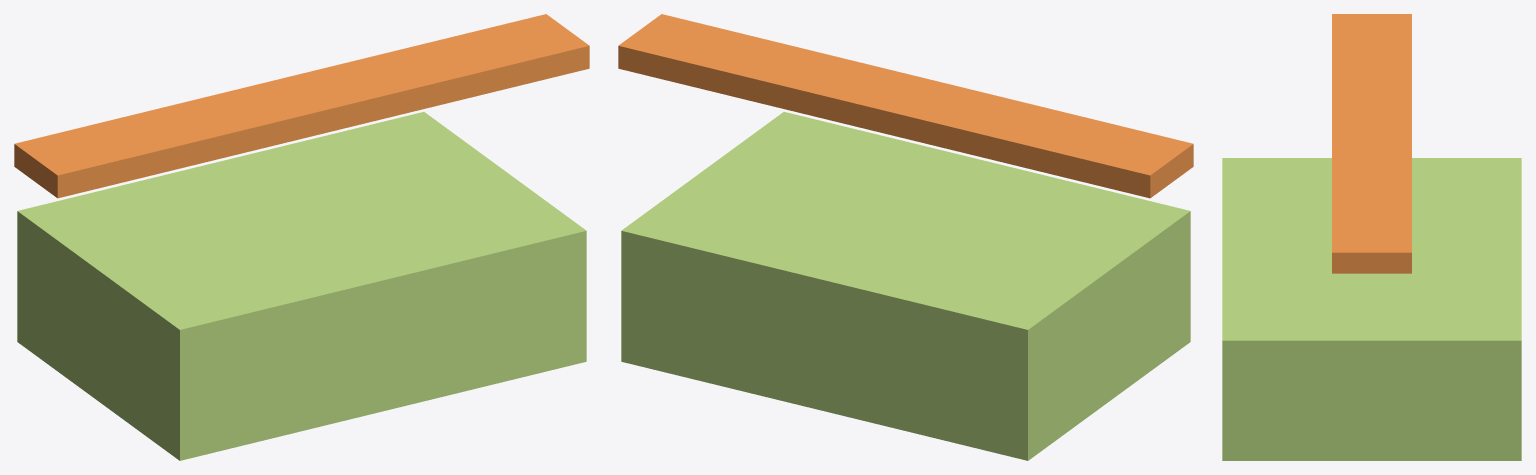
File: phase2-articulated-fixture.gltf
3 renders of one model, left to right at view 1: azimuth 30°, elevation 25°; view 2: azimuth 150°, elevation 25°; view 3: azimuth 270°, elevation 25°, orthographic. The views are drawn at different scales.
Parts seen in each view (by area): view 1: Body, Rotor Blade; view 2: Body, Rotor Blade; view 3: Body, Rotor Blade.
Boxes of the visible parts, x1=… form: Body: x1=17, y1=112, x2=586, y2=460; Rotor Blade: x1=14, y1=14, x2=589, y2=198; Body: x1=621, y1=112, x2=1190, y2=460; Rotor Blade: x1=618, y1=14, x2=1193, y2=198; Body: x1=1222, y1=158, x2=1521, y2=460; Rotor Blade: x1=1332, y1=14, x2=1411, y2=273.
Size of the model in its own units: 1.7 by 0.785 by 0.9.
